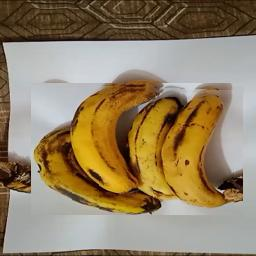Banana Semifresh: (31, 83, 243, 215)
